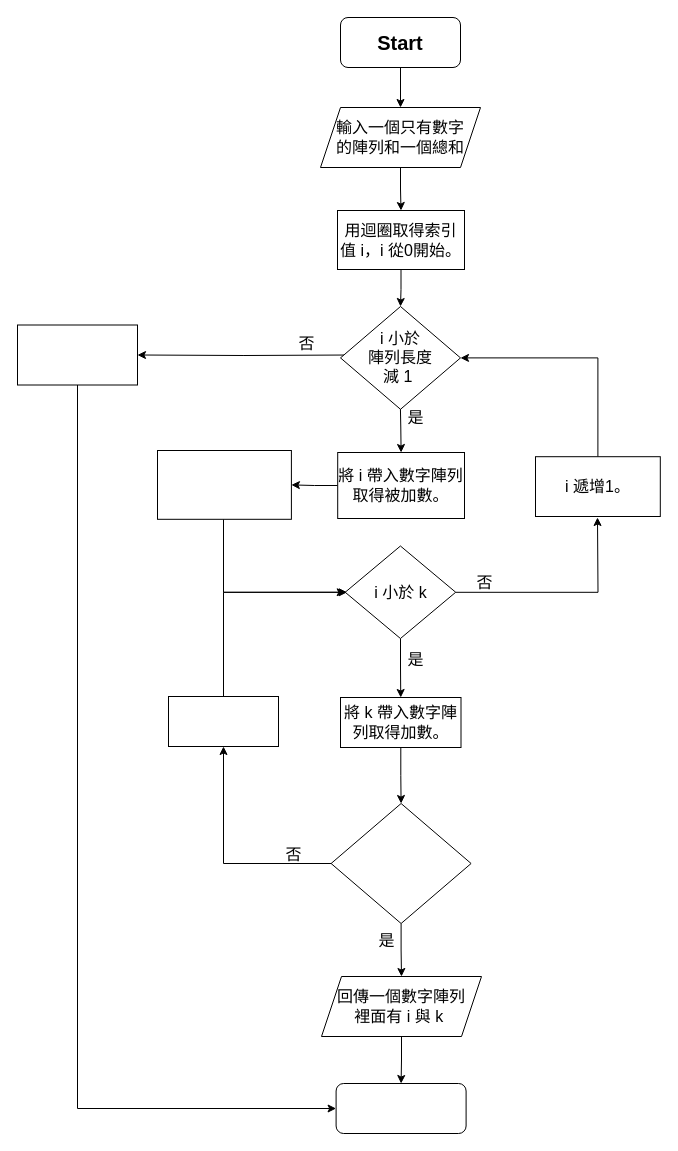
Some shapes in this 678 by 1151 pixel diagram are drawn without their labels. Here are the shapes that lost their labels. From the top down, the centre of each, then its label:
At (x=77, y=354): "迴圈停止".
At (x=223, y=484): "用迴圈取得索引值 k，k的初值為陣列長度減1。".
At (x=223, y=721): "k 遞減1。".
At (x=400, y=863): "被加數 加上 加數 等於總和".
At (x=400, y=1108): "End".
